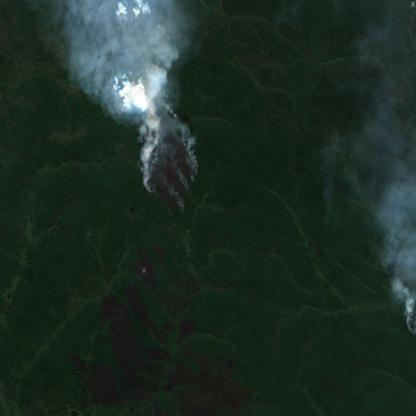fire: (140, 108, 202, 217), (401, 301, 416, 340)
